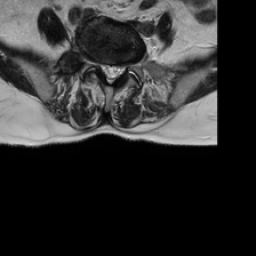CCS_normal: (107, 55, 115, 91)
LFS_severe_stenosis: (123, 55, 130, 77)
LLS_normal: (115, 57, 123, 83)
RFS_severe_stenosis: (93, 51, 100, 75)
RLS_normal: (100, 55, 107, 82)
